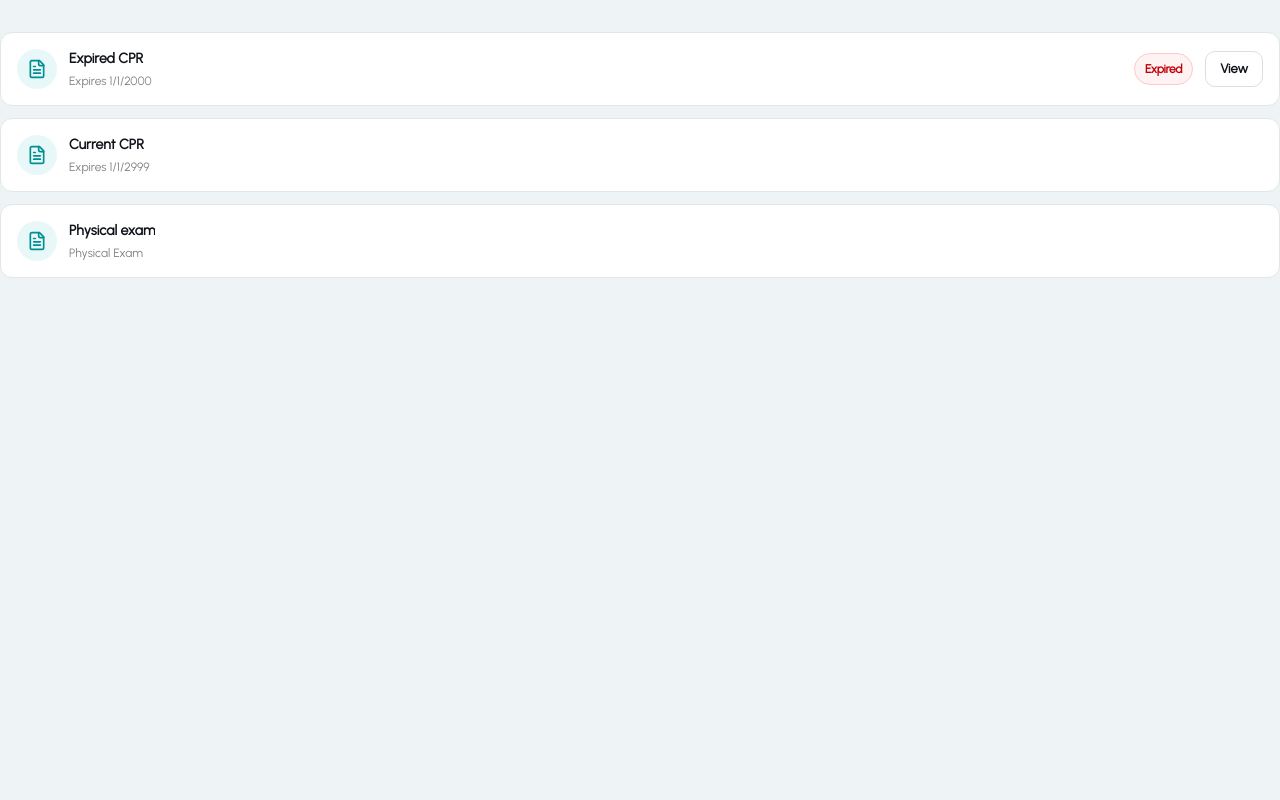
Test: StaffDocumentsTab › ignores an authorized URL that resolves after the preview closes
This screenshot has width=1280, height=800.
Click the button "View".
click(1234, 69)  # box x1=1205 y1=51 x2=1263 y2=87
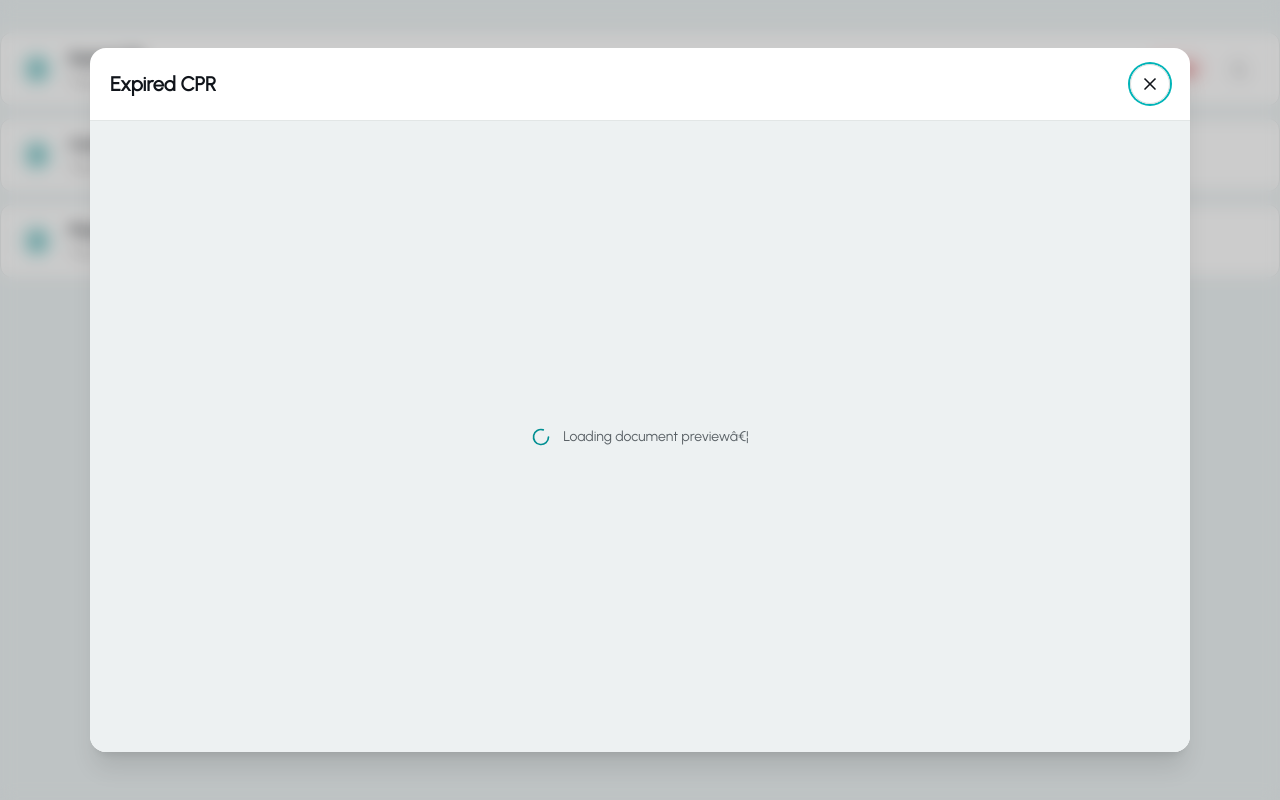
Click the button named "Close".
click(1150, 84)  # box x1=1130 y1=64 x2=1170 y2=104
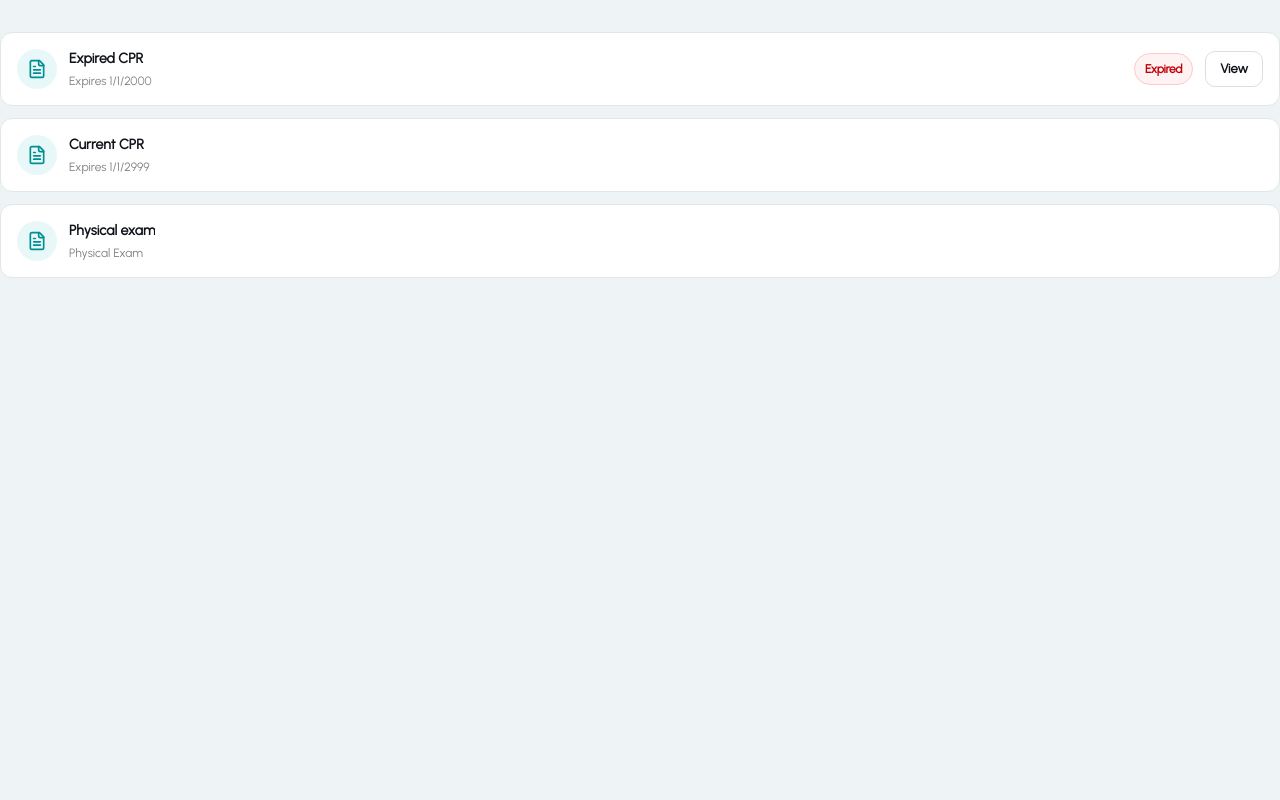
Expected: the dialog is gone
